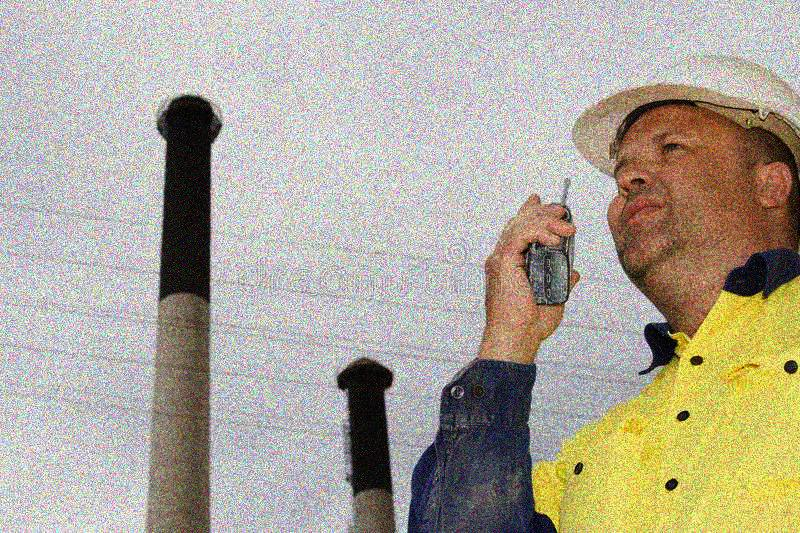helmet: (565, 52, 800, 302)
